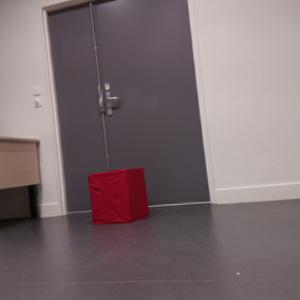medium: (87, 166, 152, 228)
